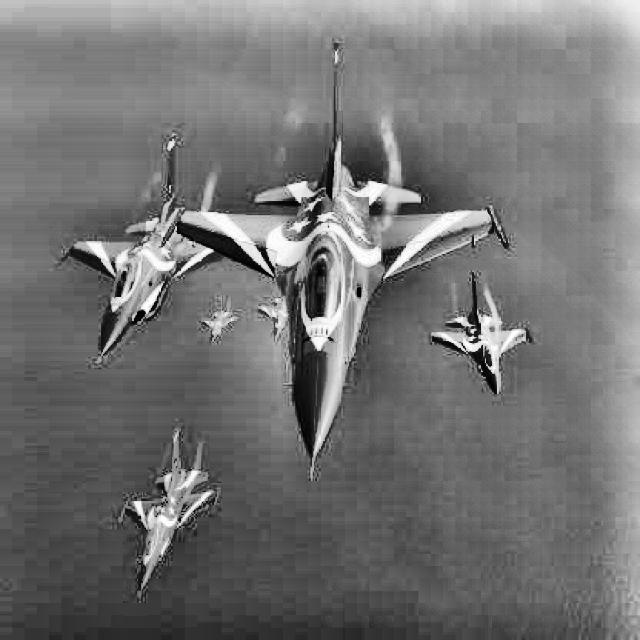F16: (158, 40, 511, 483), (57, 133, 228, 364), (118, 428, 219, 598), (430, 270, 532, 399), (199, 295, 238, 342), (255, 294, 288, 340)
